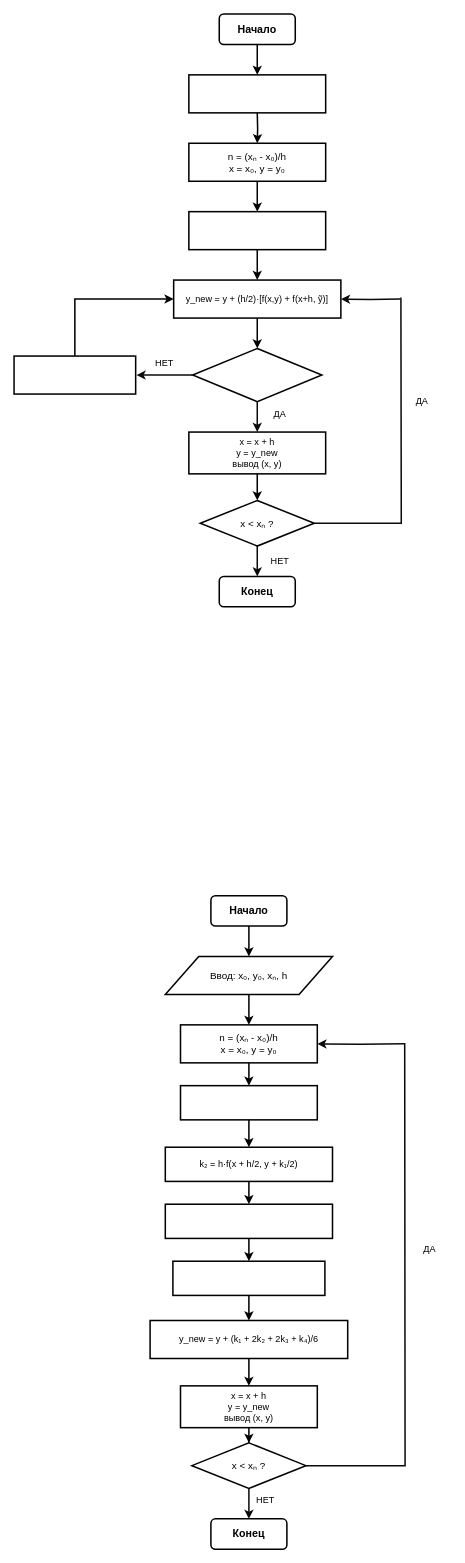
This 465x1563 diagram has some shape labels left out. Here are the shapes that lost their labels. From the top down, the box of each, then its label:
(188, 74, 326, 113): Ввод: x₀, y₀, xₙ, h, ε
(188, 211, 326, 250): ỹ = y + h·f(x, y)
(13, 355, 136, 394): y = y_new (повтор корректора)
(192, 347, 322, 402): |y_new - y| < ε ?
(179, 1085, 318, 1120): k₁ = h·f(x, y)
(164, 1203, 333, 1239): k₃ = h·f(x + h/2, y + k₂/2)
(172, 1260, 325, 1296): k₄ = h·f(x + h, y + k₃)
